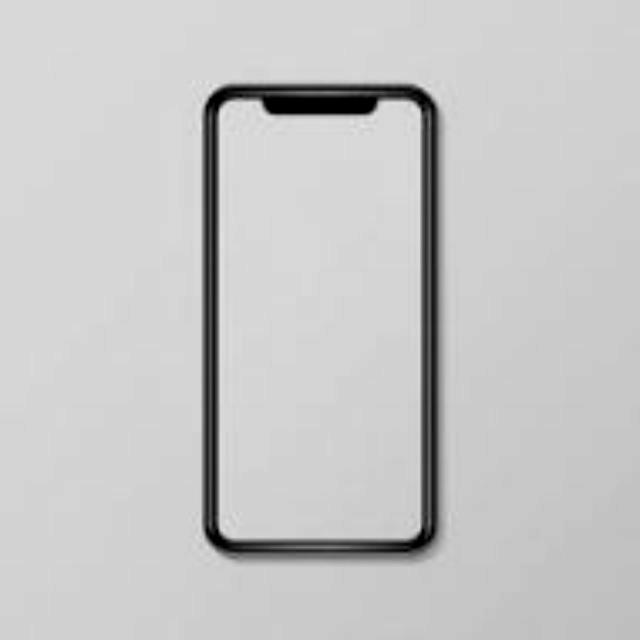fake: (204, 77, 434, 556)
